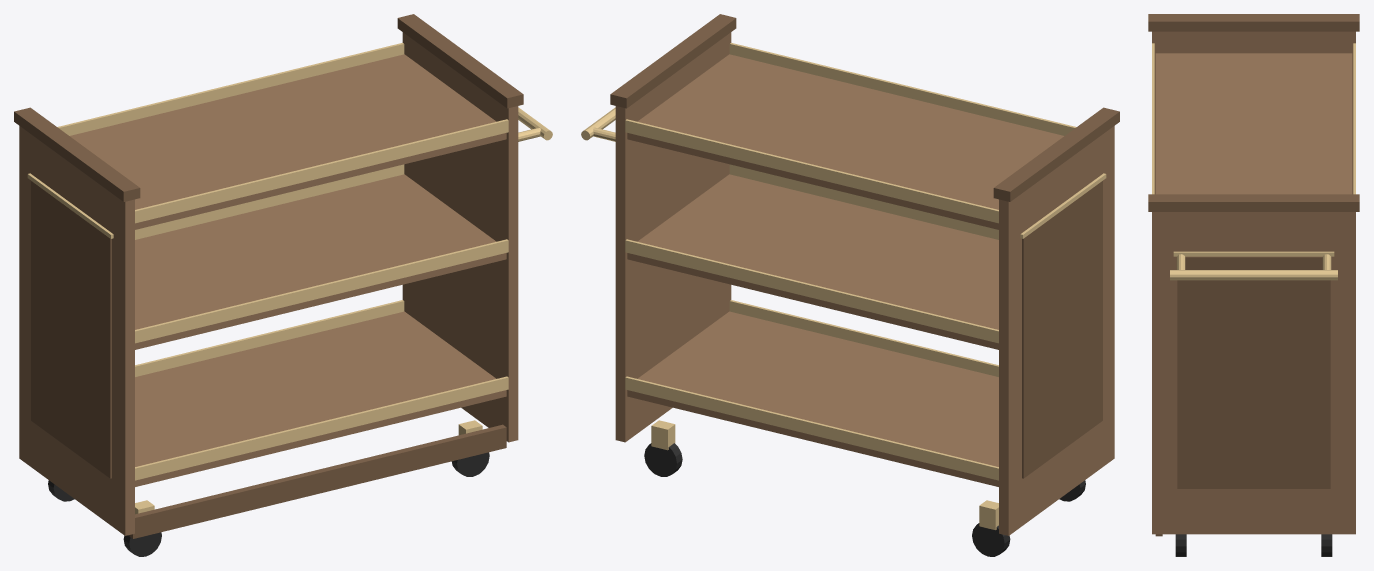
Rendered from arch_bookcart.glb.
3 views of the same model, side by side, from view 1: azimuth 30°, elevation 25°; view 2: azimuth 150°, elevation 25°; view 3: azimuth 270°, elevation 25° (orthographic). The views are drawn at different scales.
Parts seen in each view (by area): view 1: arch_bookcart; view 2: arch_bookcart; view 3: arch_bookcart.
Boxes of the visible parts, x1,y1,x2,y2 form: arch_bookcart: [14, 14, 552, 556]; arch_bookcart: [581, 14, 1119, 556]; arch_bookcart: [1148, 14, 1359, 556].
Bounding box in the file's own units: 1.34 × 1.12 × 0.58.
